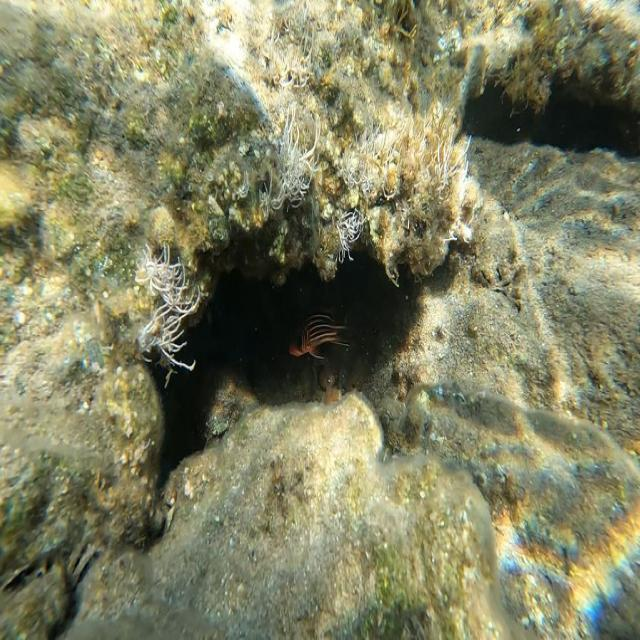Asker Baligi: (278, 313, 349, 366)
